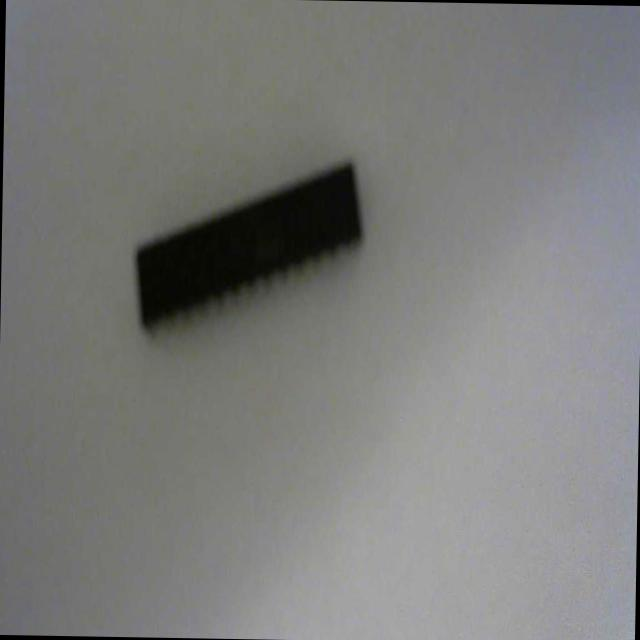atmega: (130, 148, 367, 342)
